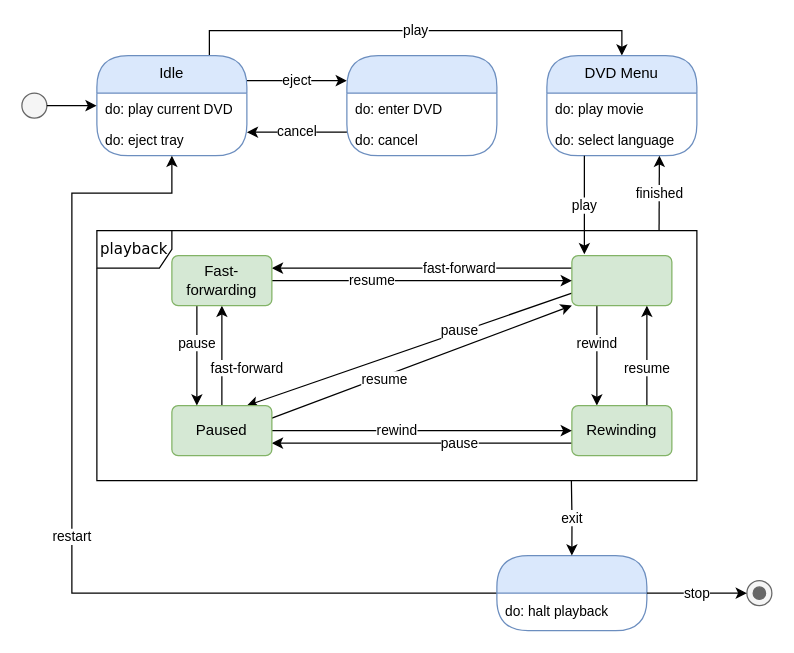
This 794x653 diagram has some shape labels left out. Each missing label, with the box of its shape:
Playing: (571, 254, 672, 306)
Stopped: (496, 554, 647, 631)
Tray Open: (346, 54, 497, 156)
